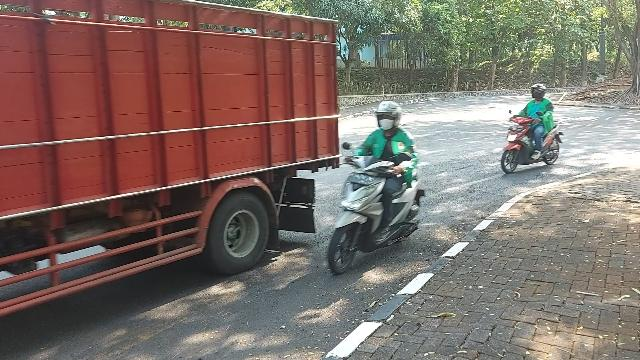helm: (378, 103, 403, 132), (532, 85, 547, 100)
motor: (330, 143, 427, 273), (502, 112, 564, 175)
